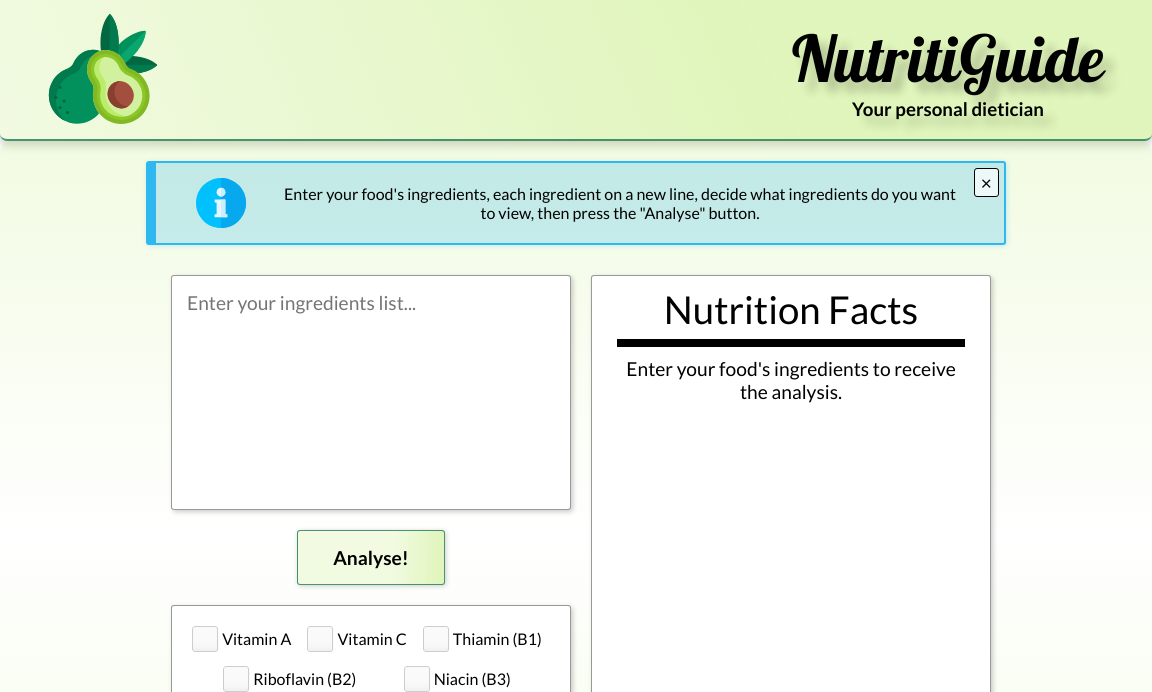
Testing the notifications › hides the default notification when the Close button is clicked
Click the button "×": point(986, 182) [974,168,999,197]
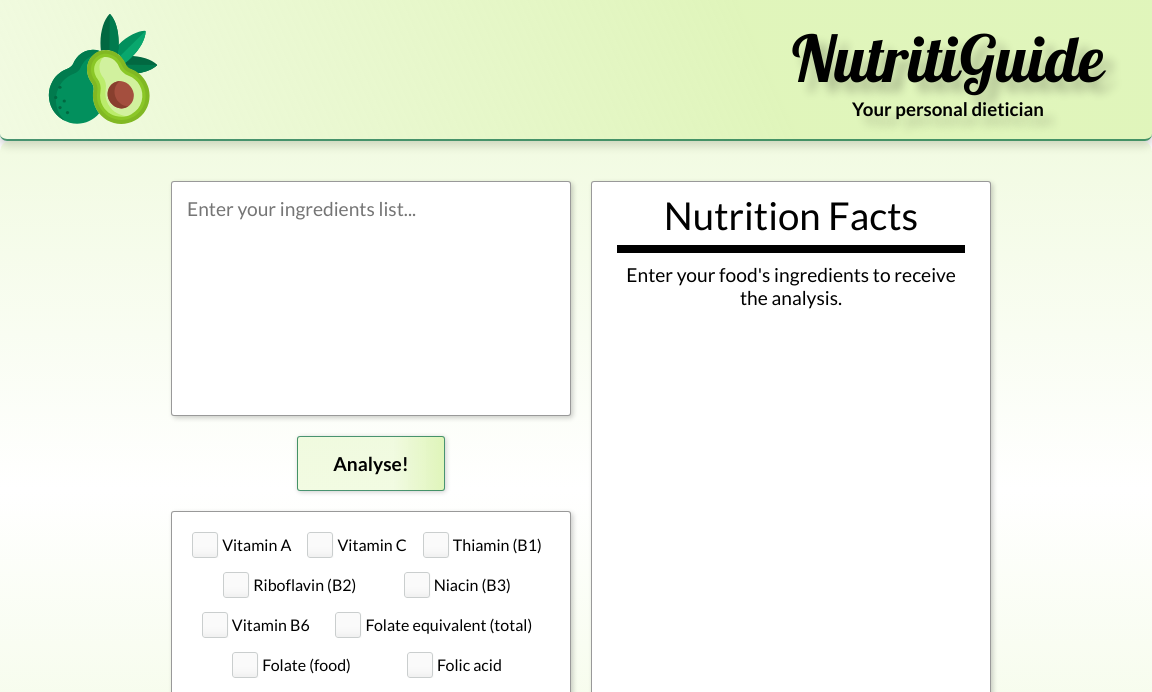
Now the list item "Enter your food's ingredients, each ingredient on a new line," is gone
